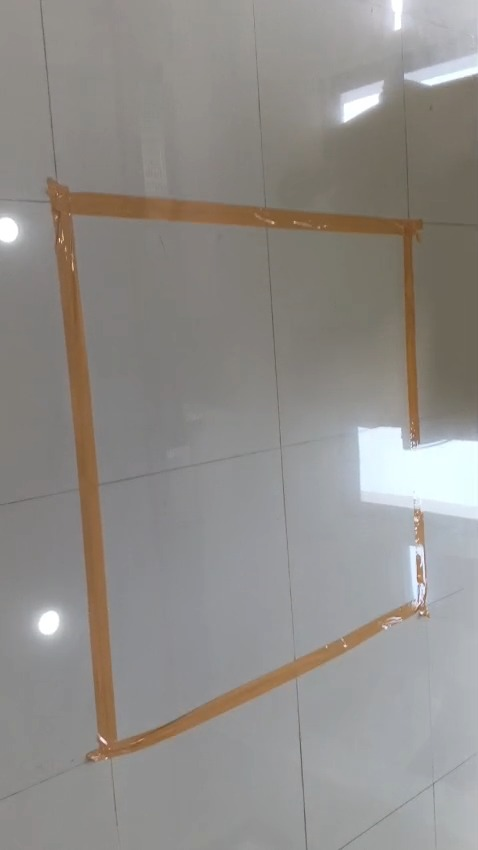floor marking: (49, 179, 425, 761)
